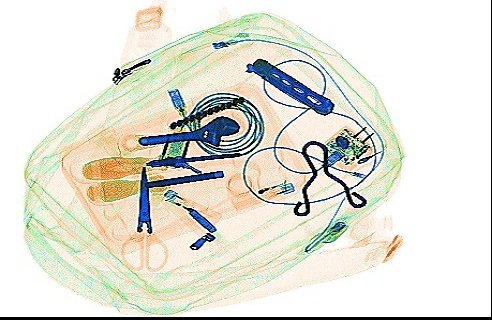knife: (241, 56, 335, 116)
lighter: (159, 188, 222, 227), (226, 179, 294, 210)
scissors: (118, 163, 167, 272)
slingshot: (290, 138, 366, 217)
